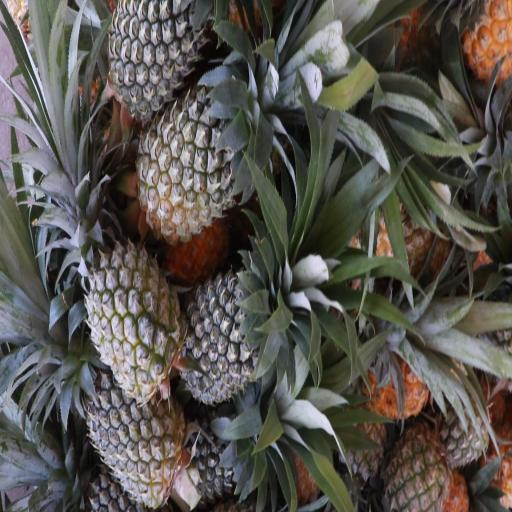------------------------------: (143, 90, 252, 233), (91, 242, 179, 394), (386, 422, 449, 510)
Pineapple - v8 v1: (455, 0, 512, 77)
